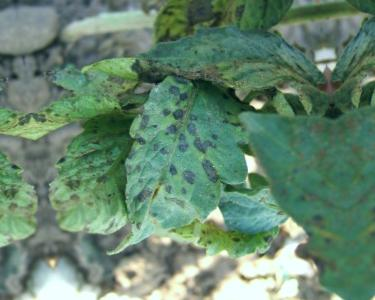Tomato leaf bacterial spot: (84, 55, 245, 259), (34, 88, 181, 248), (130, 12, 327, 128)
